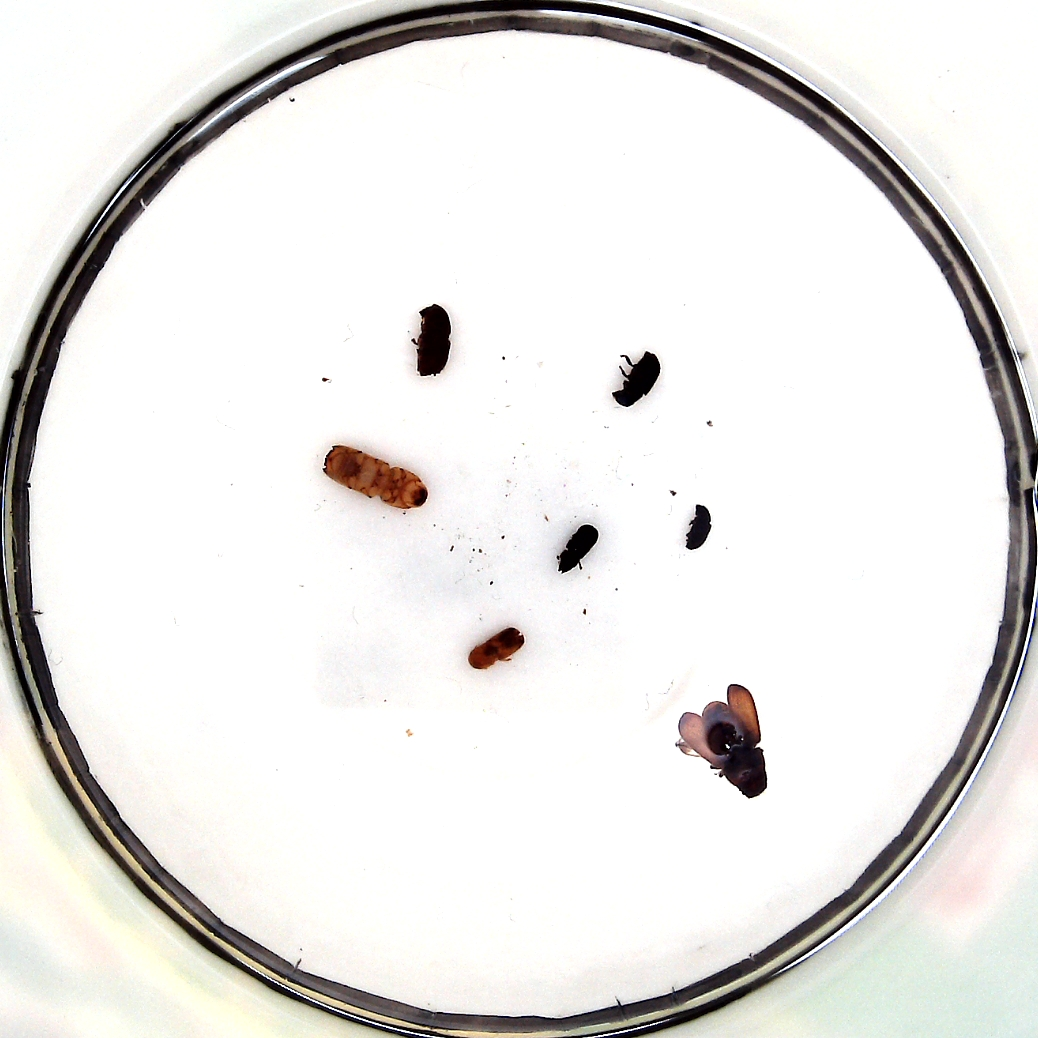Boerner: (324, 444, 425, 508)
Leconte: (679, 683, 773, 801)
Linnaeus: (415, 304, 451, 374)
acuminatus: (470, 627, 528, 668)
armandi: (613, 350, 660, 411)
coleoptera: (558, 524, 598, 575), (685, 504, 712, 551)
